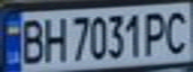0: (87, 12, 109, 61)
1: (121, 10, 145, 57)
3: (106, 11, 127, 60)
7: (66, 12, 90, 62)
B: (15, 15, 48, 64)
C: (160, 6, 193, 55)
H: (39, 13, 69, 64)
P: (139, 8, 172, 56)
